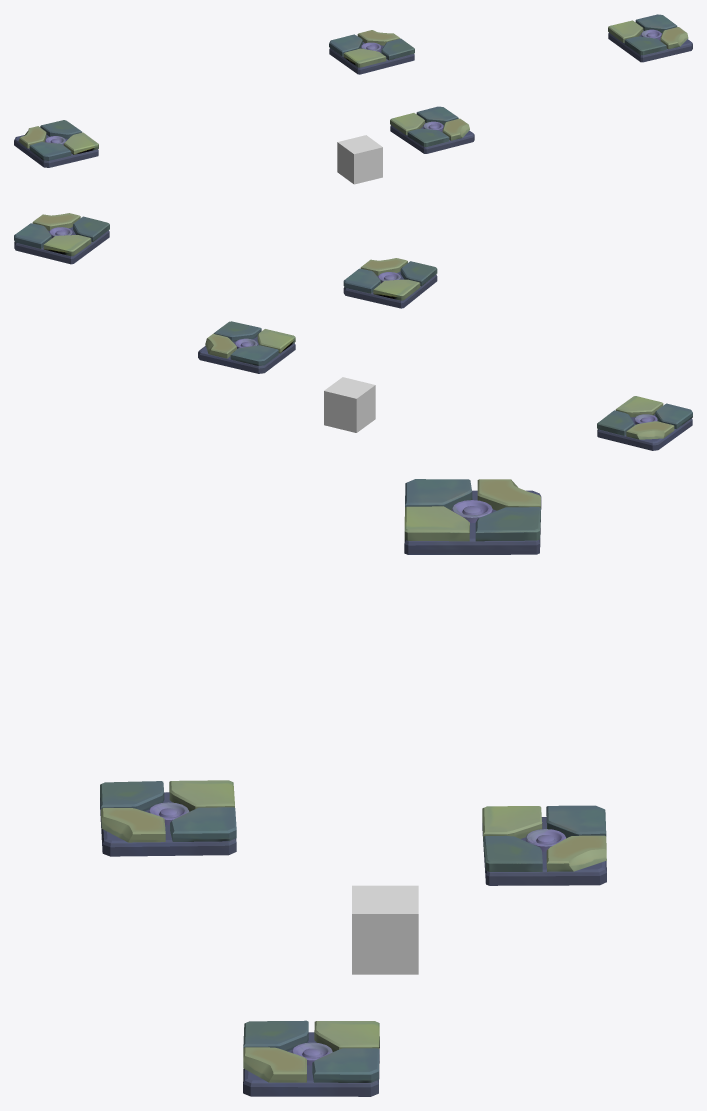
File: battlescence-1-floor002.fbx
The picture shows the model from 3 angles, top to bottom: view 1: azimuth 30°, elevation 25°; view 2: azimuth 150°, elevation 25°; view 3: azimuth 270°, elevation 25°; orthographic projection. The views are drawn at different scales.
Visible parts, largest first — view 1: Cube.022, Cube.039, Cube.053, Cube.034, battlescence-1-floor002; view 2: Cube.039, Cube.022, Cube.034, Cube.053, battlescence-1-floor002; view 3: Cube.022, Cube.053, Cube.039, Cube.034, battlescence-1-floor002.
Boxes of the visible parts, bbox=[...] form: Cube.022: bbox=[608, 14, 692, 62]; Cube.039: bbox=[14, 120, 98, 167]; Cube.053: bbox=[390, 106, 474, 153]; Cube.034: bbox=[329, 30, 414, 74]; battlescence-1-floor002: bbox=[337, 135, 382, 184]; Cube.039: bbox=[597, 396, 692, 450]; Cube.022: bbox=[14, 213, 109, 264]; Cube.034: bbox=[198, 321, 295, 373]; Cube.053: bbox=[343, 258, 437, 308]; battlescence-1-floor002: bbox=[324, 377, 375, 432]; Cube.022: bbox=[243, 1020, 379, 1096]; Cube.053: bbox=[100, 780, 236, 856]; Cube.039: bbox=[404, 479, 541, 554]; Cube.034: bbox=[482, 805, 606, 885]; battlescence-1-floor002: bbox=[352, 885, 418, 974].
Bounding box in the file's own units: 2953 × 417 × 1064.
